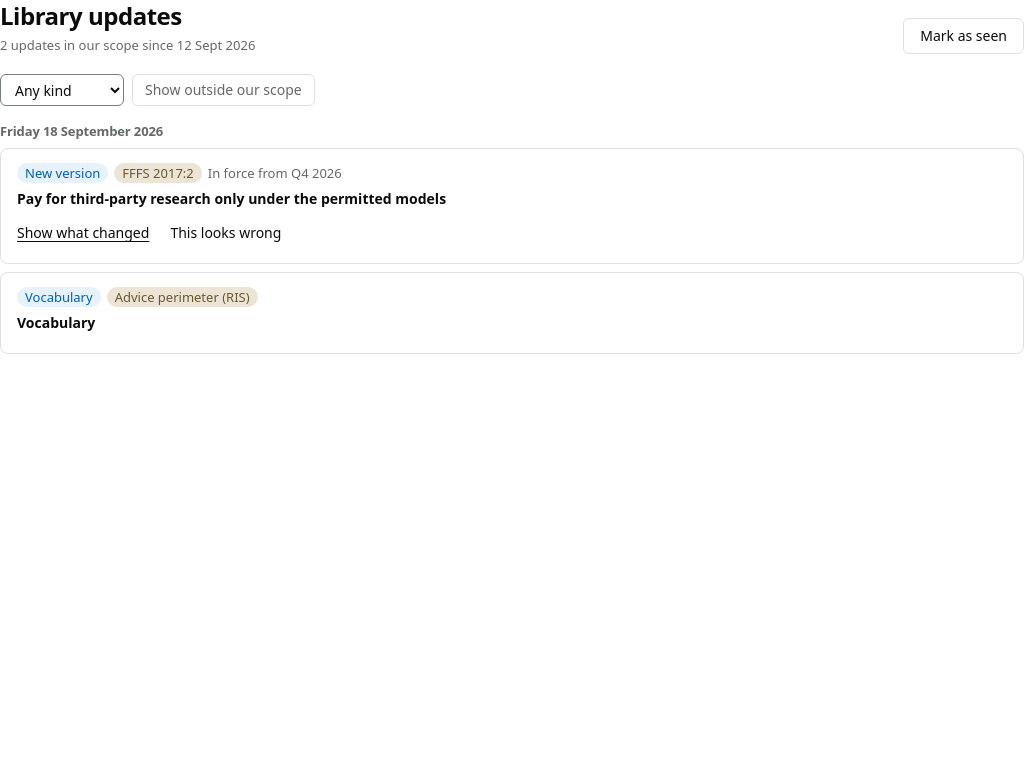
Scenario: LibraryUpdatesScreen › files "This looks wrong" through the shared report form, on the record and the version the row named
Click the button "This looks wrong" at (226, 233), box [157,217,294,249]
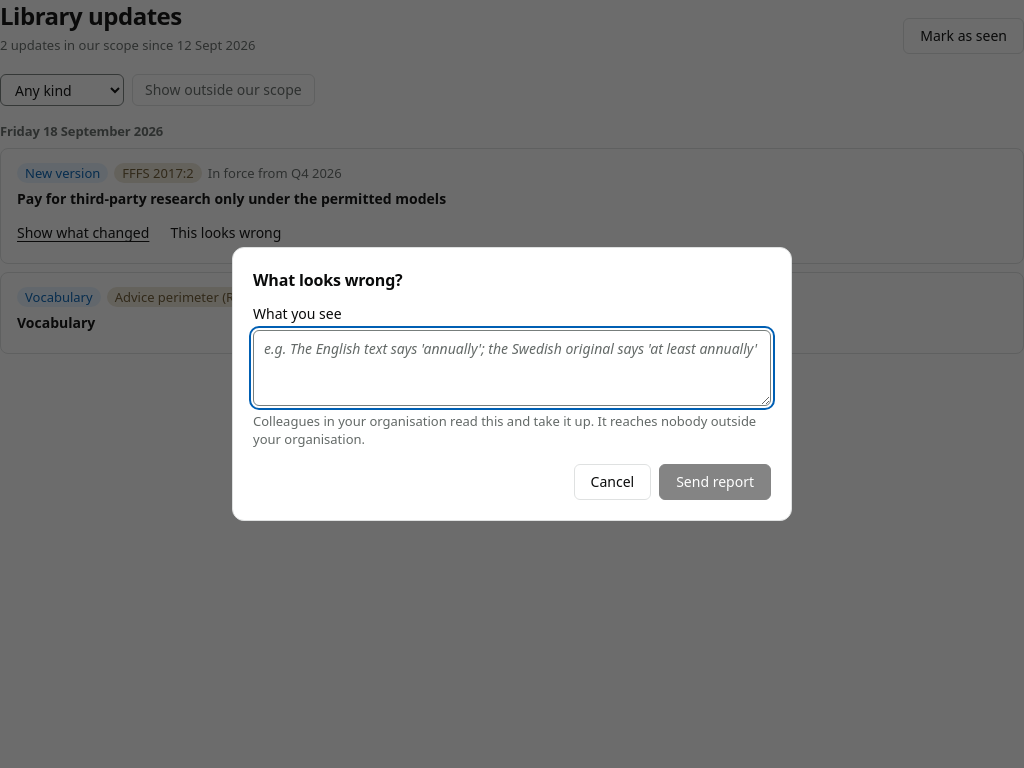
Replace the text in the text box labelled "What you see" with "The annual review is missing from version 2." at (512, 368), box [253,330,771,406]
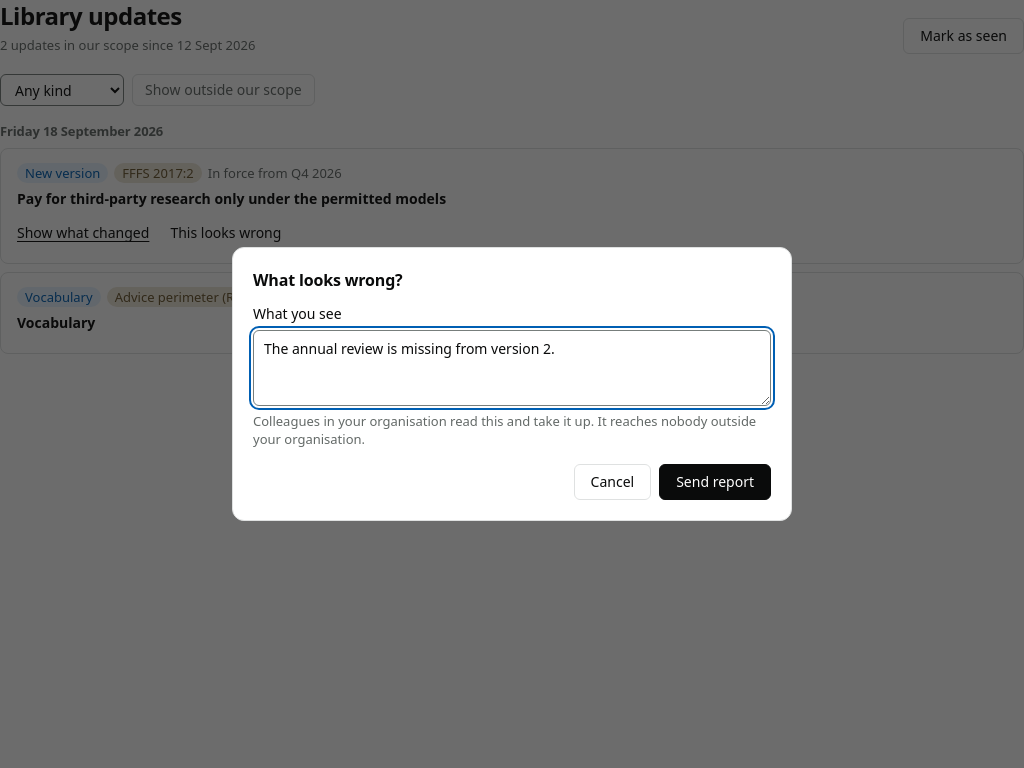
Click the button "Send report" at (715, 482), box [659,464,771,500]
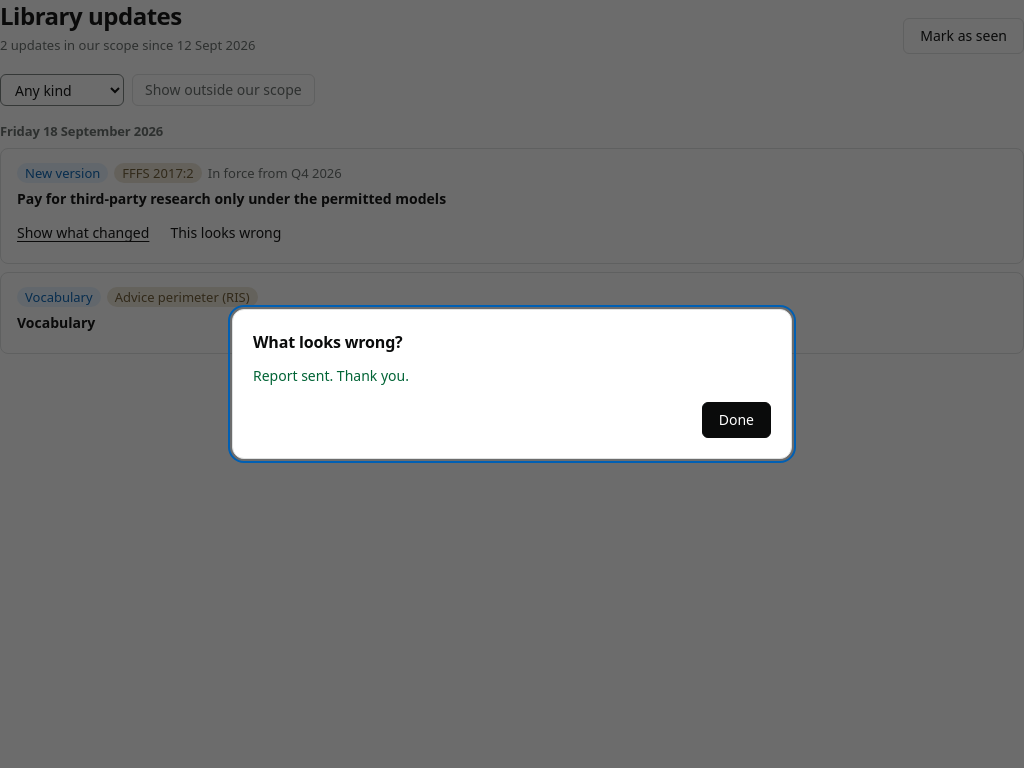
Expected: the text "Report sent. Thank you." is shown, [253,366,409,385]
Click the button "Done" at (736, 420), box [702,402,771,438]
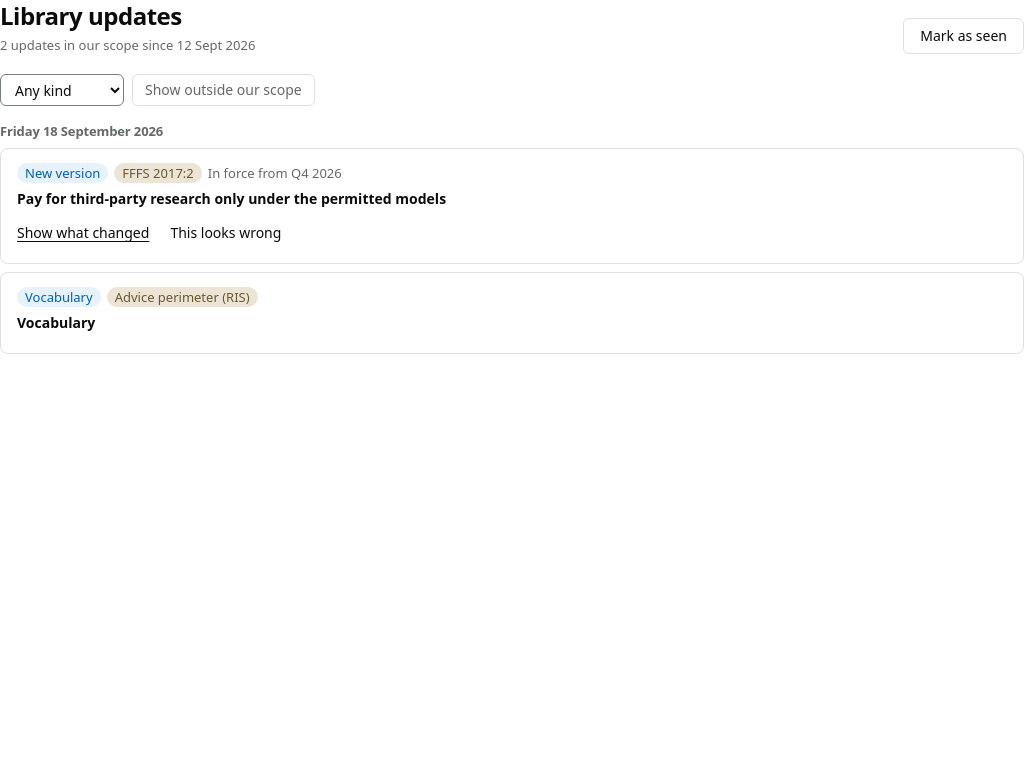
Expected: the dialog is gone
